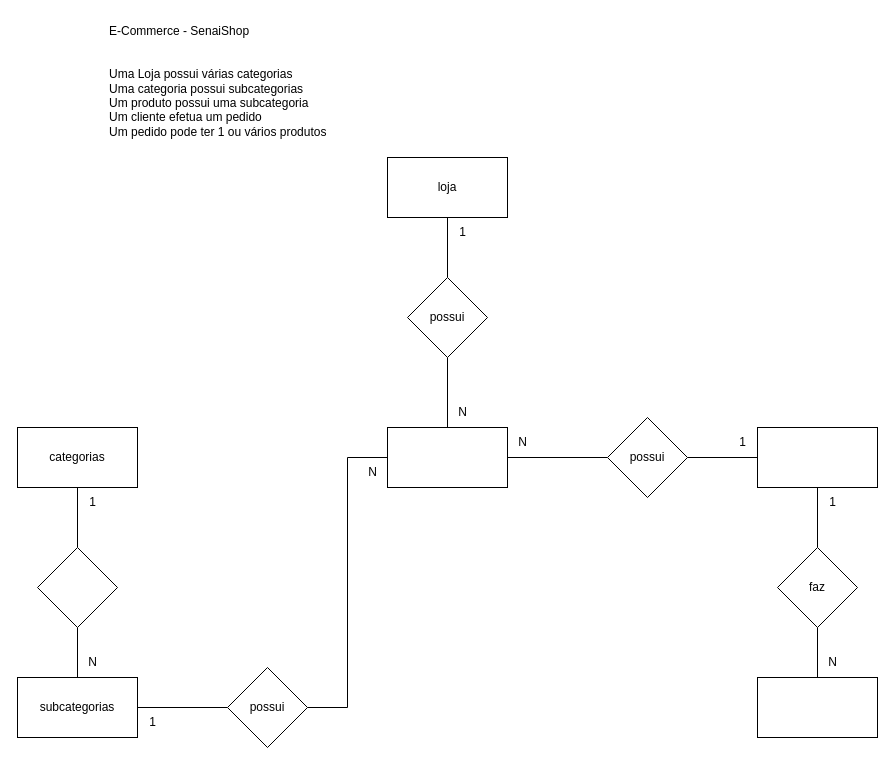
Image size: 895x765. Some labels were removed from this diagram. The centre of each missing label's shape, as x and y in pixels:
"cliente" goes at point 817,707.
"contem" goes at point 77,587.
"pedido" goes at point 817,457.
"produtos" goes at point 447,457.
